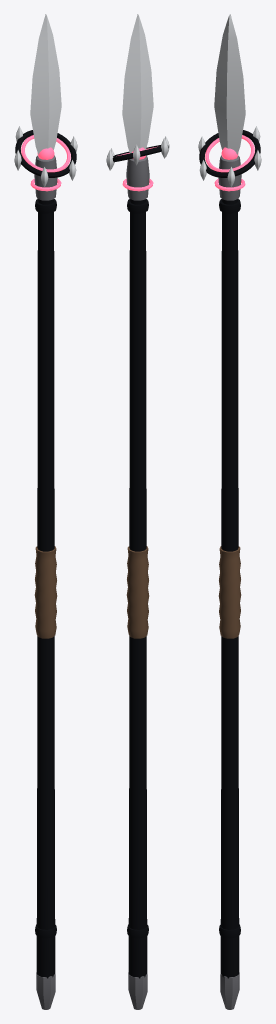
Rendered from esc_w_ranger_spear_4.glb.
3 renders of one model, left to right at view 1: azimuth 30°, elevation 25°; view 2: azimuth 210°, elevation 25°; view 3: azimuth 330°, elevation 25°, orthographic.
Parts seen in each view (by area): view 1: esc_w_ranger_spear_4; view 2: esc_w_ranger_spear_4; view 3: esc_w_ranger_spear_4.
Boxes of the visible parts, x1,y1,x2,y2 form: esc_w_ranger_spear_4: (14,14,77,1009); esc_w_ranger_spear_4: (106,14,169,1009); esc_w_ranger_spear_4: (198,14,261,1009).
Size of the model in its own units: 0.1524 by 2.29 by 0.1202.
